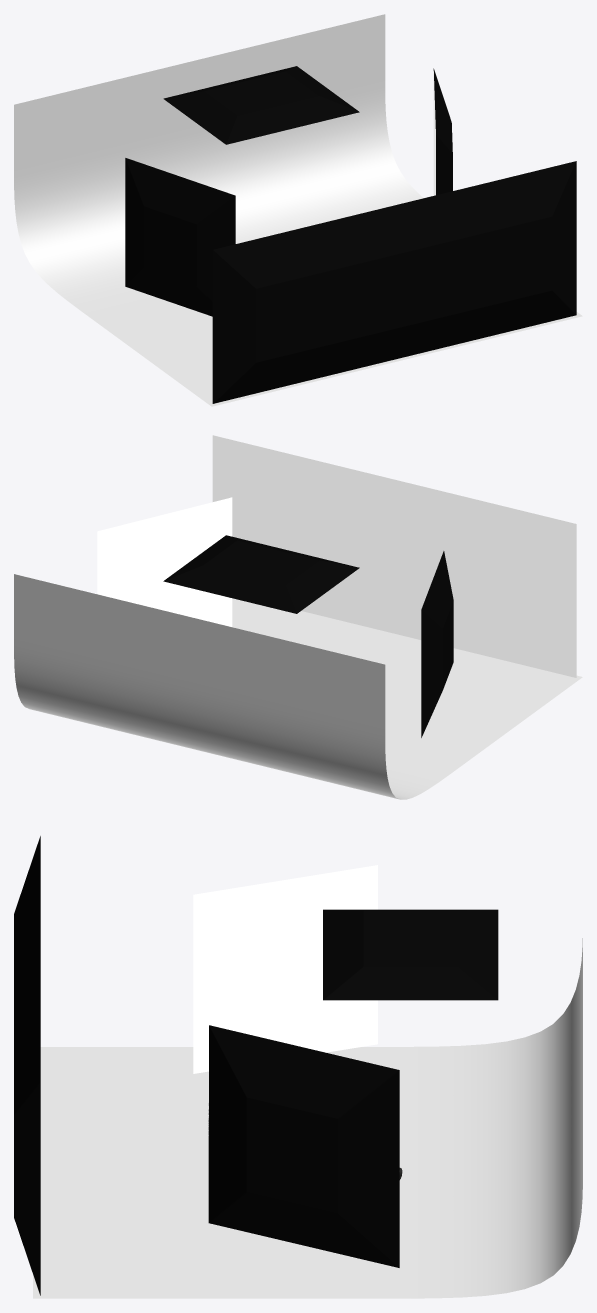
The picture shows the model from 3 angles, top to bottom: view 1: azimuth 30°, elevation 25°; view 2: azimuth 150°, elevation 25°; view 3: azimuth 270°, elevation 25°; orthographic projection. The views are drawn at different scales.
Visible parts, largest first — view 1: Backdrop, Light_front, Light_left, Light_above, Light_right; view 2: Backdrop, Light_front, Light_right, Light_above, Light_left; view 3: Backdrop, Light_right, Light_left, Light_above, Light_front.
Part boxes in pixels (<box>): Backdrop: <box>14,14,582,406</box>; Light_front: <box>212,161,576,403</box>; Light_left: <box>125,158,235,316</box>; Light_above: <box>163,66,359,144</box>; Light_right: <box>433,68,452,195</box>; Backdrop: <box>14,574,582,799</box>; Light_front: <box>212,435,576,677</box>; Light_right: <box>97,497,232,626</box>; Light_above: <box>163,535,359,613</box>; Light_left: <box>421,551,453,737</box>; Backdrop: <box>33,938,582,1298</box>; Light_right: <box>208,1025,399,1267</box>; Light_left: <box>193,865,377,1073</box>; Light_above: <box>323,909,498,1000</box>; Light_front: <box>14,836,40,1295</box>.
Bounding box in the file's own units: 16 × 6.95 × 15.29.
15 materials, 5 textured.
